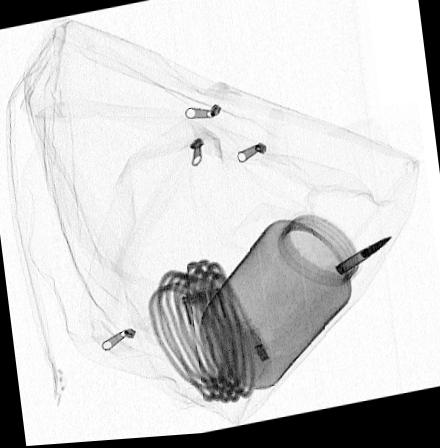Bullet: (332, 242, 394, 282)
